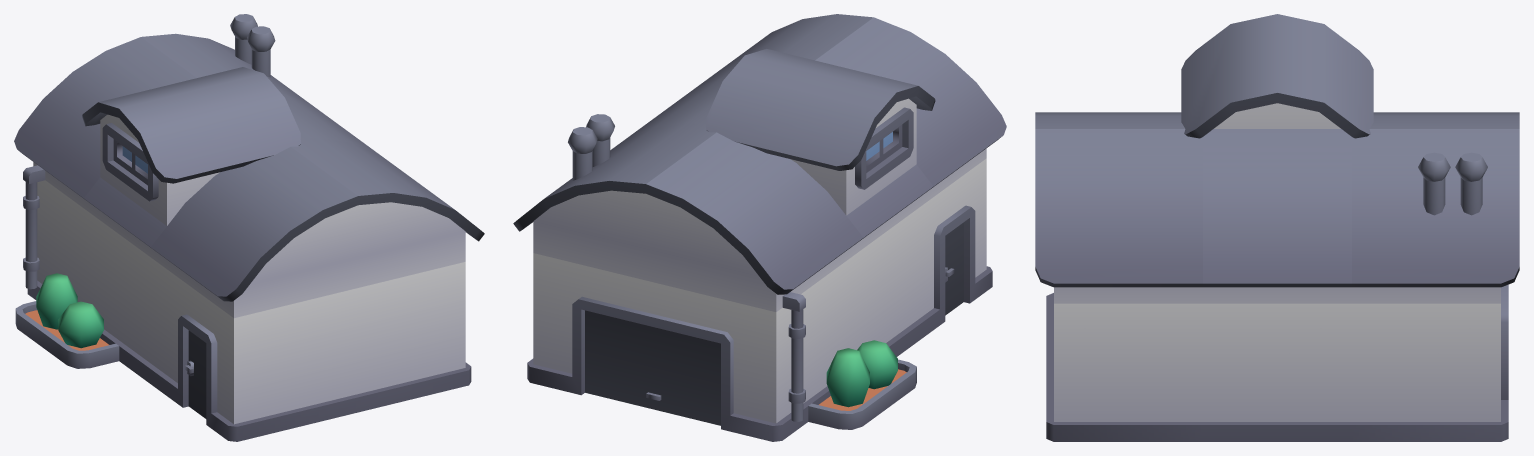
File: garage.glb
3 renders of one model, left to right at view 1: azimuth 30°, elevation 25°; view 2: azimuth 150°, elevation 25°; view 3: azimuth 270°, elevation 25°, orthographic. The views are drawn at different scales.
Parts seen in each view (by area): view 1: building-j; view 2: building-j; view 3: building-j.
Part boxes in pixels (x1,y1,x2,y2): building-j: (14, 14, 484, 441); building-j: (513, 14, 1006, 441); building-j: (1035, 14, 1519, 441).
Bounding box in the file's own units: 1.03 × 0.8611 × 1.3.
Materials: 2 (2 with a texture image).
